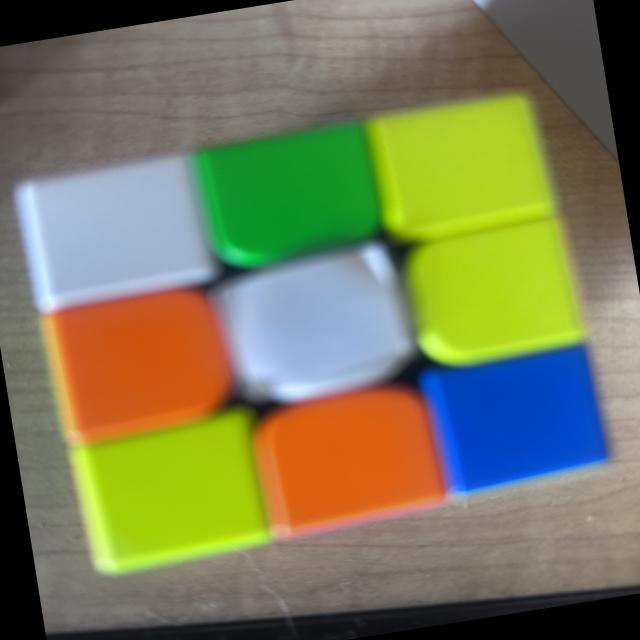sticker: (67, 403, 280, 580), (213, 241, 426, 413), (10, 151, 222, 319), (248, 376, 452, 544), (40, 282, 244, 449), (364, 88, 560, 252), (195, 120, 390, 277), (420, 342, 610, 503), (400, 216, 589, 374)
